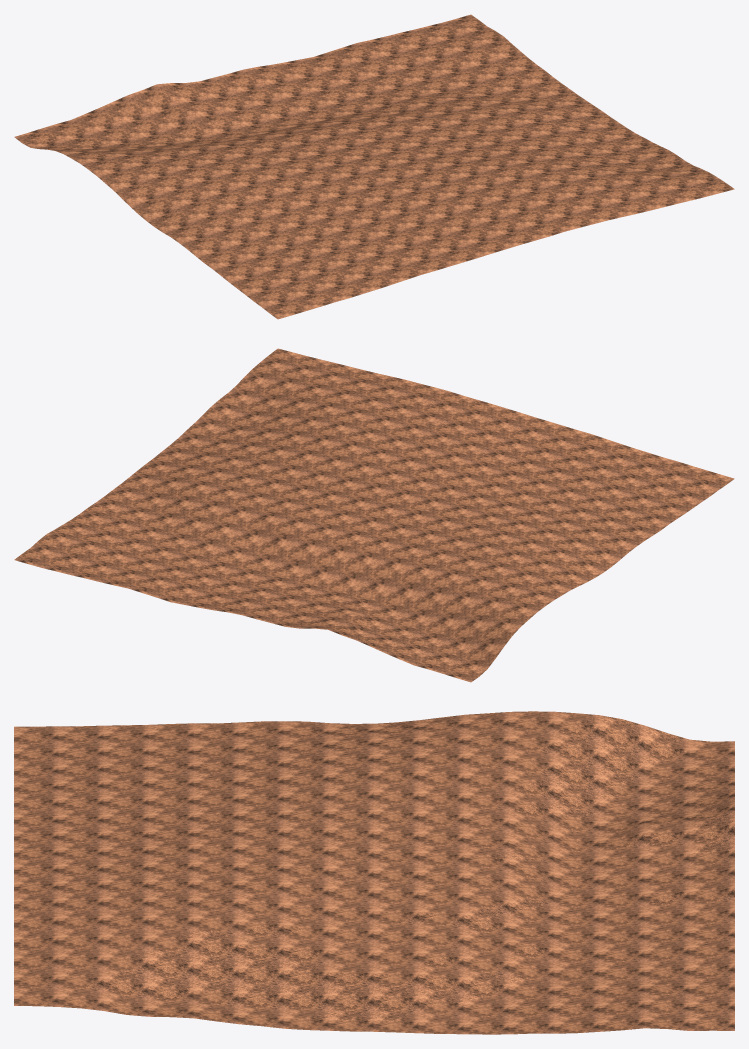
File: terrain_10_09.dae
3 views of the same model, one above another, from view 1: azimuth 30°, elevation 25°; view 2: azimuth 150°, elevation 25°; view 3: azimuth 270°, elevation 25° (orthographic). The views are drawn at different scales.
Visible parts, largest first — view 1: terrain_10_09-node; view 2: terrain_10_09-node; view 3: terrain_10_09-node.
Part boxes in pixels (x1=…): terrain_10_09-node: x1=14, y1=14, x2=734, y2=319; terrain_10_09-node: x1=14, y1=348, x2=734, y2=682; terrain_10_09-node: x1=14, y1=711, x2=734, y2=1034.
Bounding box in the file's own units: 128 × 128 × 8.37.
Materials: 1 (1 with a texture image).
